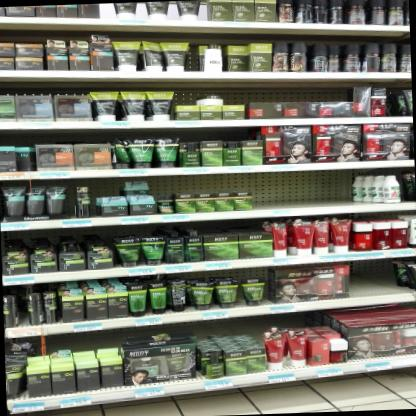empty_space: (349, 257, 405, 299), (252, 172, 275, 210), (275, 171, 297, 209), (355, 168, 376, 206), (297, 170, 317, 208), (335, 169, 355, 207), (317, 169, 335, 207)
